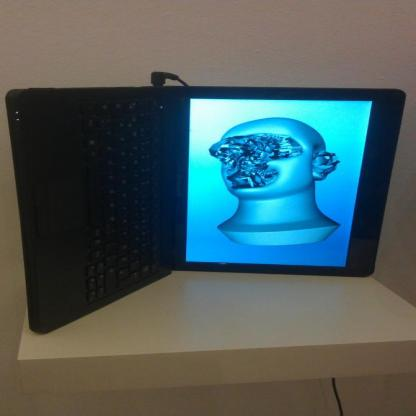board: (2, 85, 408, 335)
